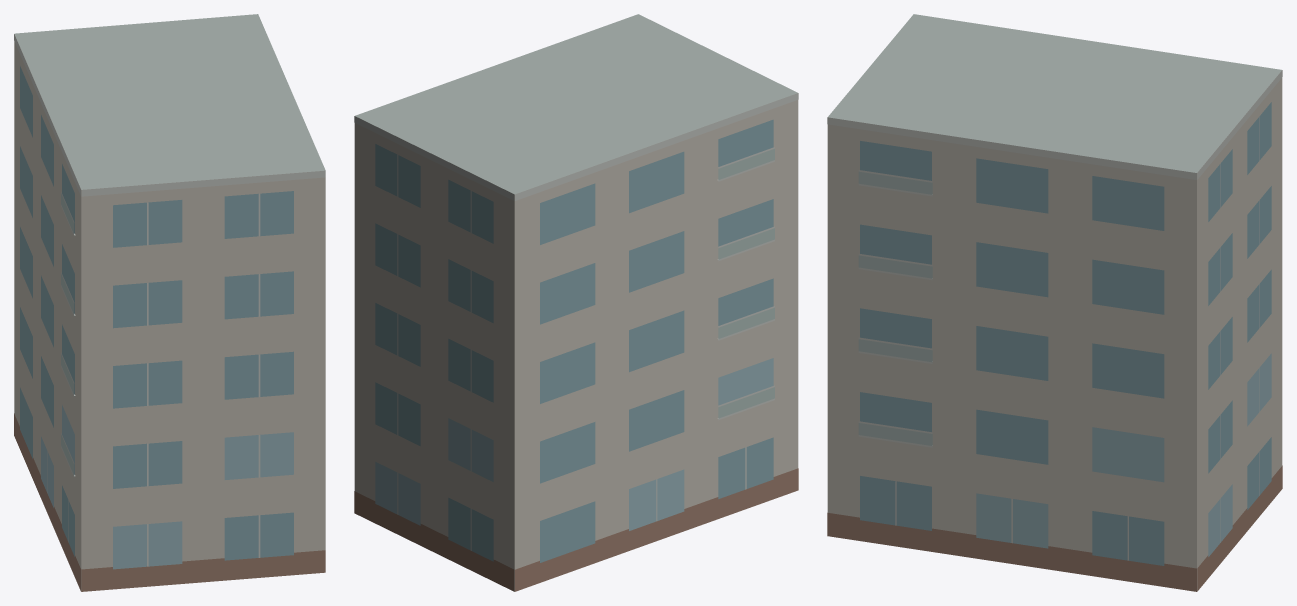
The model's file is survey-upis-32851037.glb.
The picture shows the model from 3 angles, left to right: view 1: azimuth 30°, elevation 25°; view 2: azimuth 150°, elevation 25°; view 3: azimuth 270°, elevation 25°; orthographic projection. The views are drawn at different scales.
Parts seen in each view (by area): view 1: survey-upis-32851037.tmp; view 2: survey-upis-32851037.tmp; view 3: survey-upis-32851037.tmp.
Boxes of the visible parts, box(x1,y1,x2,y2) form: survey-upis-32851037.tmp: box(14, 14, 325, 591); survey-upis-32851037.tmp: box(354, 14, 798, 591); survey-upis-32851037.tmp: box(827, 14, 1282, 591).
Bounding box in the file's own units: 11.78 × 14.45 × 14.24.
